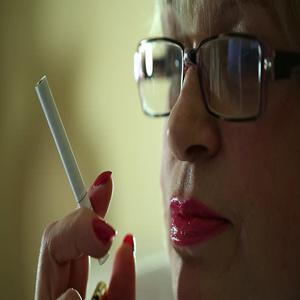cigarette: (35, 74, 115, 264)
